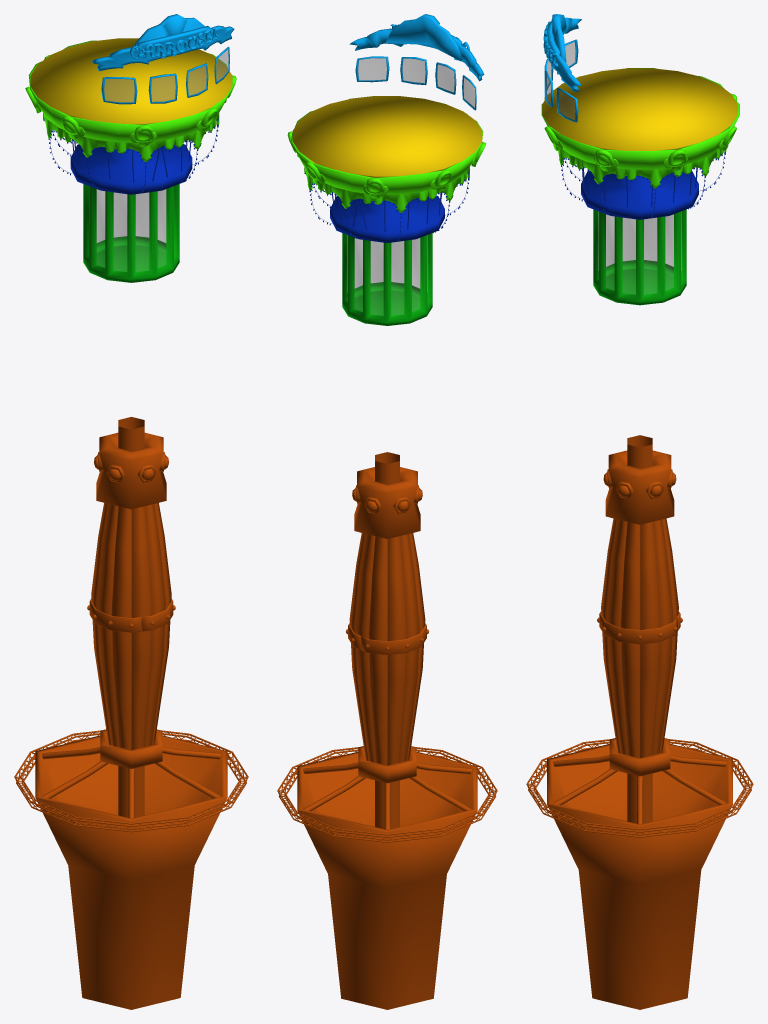
Rendered from Mod_Carousel.FBX.
The picture shows the model from 3 angles, left to right: view 1: azimuth 30°, elevation 25°; view 2: azimuth 150°, elevation 25°; view 3: azimuth 270°, elevation 25°; orthographic projection. The views are drawn at different scales.
Visible parts, largest first — view 1: MOD_Carousel; view 2: MOD_Carousel; view 3: MOD_Carousel.
Boxes of the visible parts, x1,y1,x2,y2 form: MOD_Carousel: (14, 14, 248, 1009); MOD_Carousel: (277, 14, 497, 1009); MOD_Carousel: (526, 14, 753, 1009).
Bounding box in the file's own units: 14.11 × 66.45 × 14.11.
